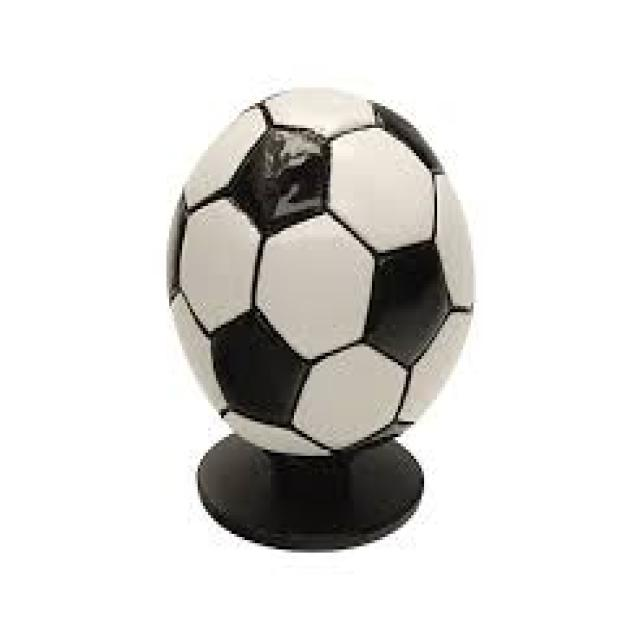football: (156, 90, 479, 452)
